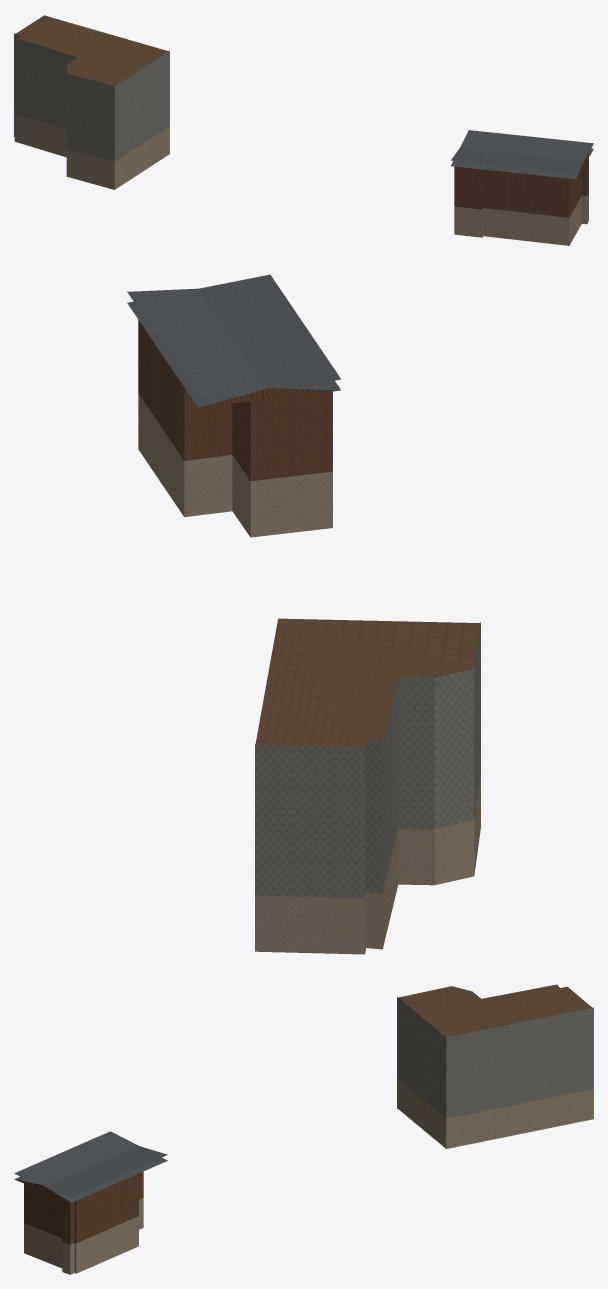
File: bld_c43_32_265.gltf
3 views of the same model, one above another, from view 1: azimuth 30°, elevation 25°; view 2: azimuth 150°, elevation 25°; view 3: azimuth 270°, elevation 25° (orthographic). The views are drawn at different scales.
Parts seen in each view (by area): view 1: bld_c43_32_265; view 2: bld_c43_32_265; view 3: bld_c43_32_265.
Boxes of the visible parts, bbox=[...] form: bld_c43_32_265: bbox=[14, 15, 593, 245]; bld_c43_32_265: bbox=[127, 274, 480, 954]; bld_c43_32_265: bbox=[14, 984, 593, 1274].
Bounding box in the file's own units: 66.98 × 18.78 × 88.48.
Materials: 7 (7 with a texture image).
